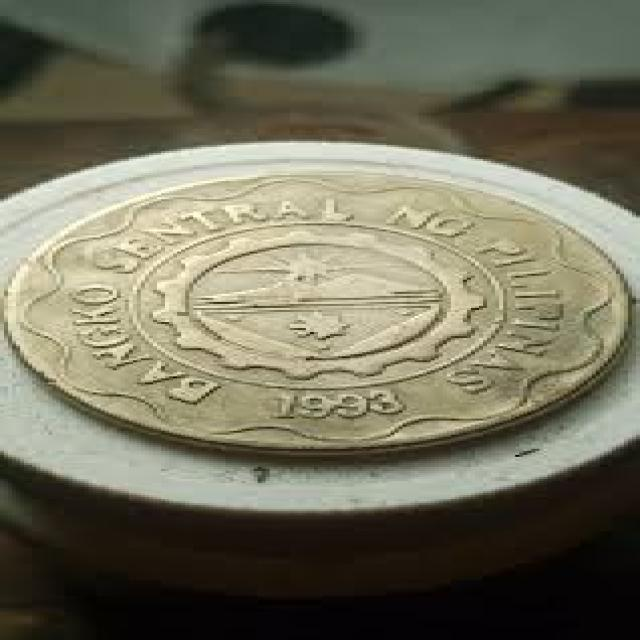5 peso-old: (0, 161, 640, 461)
